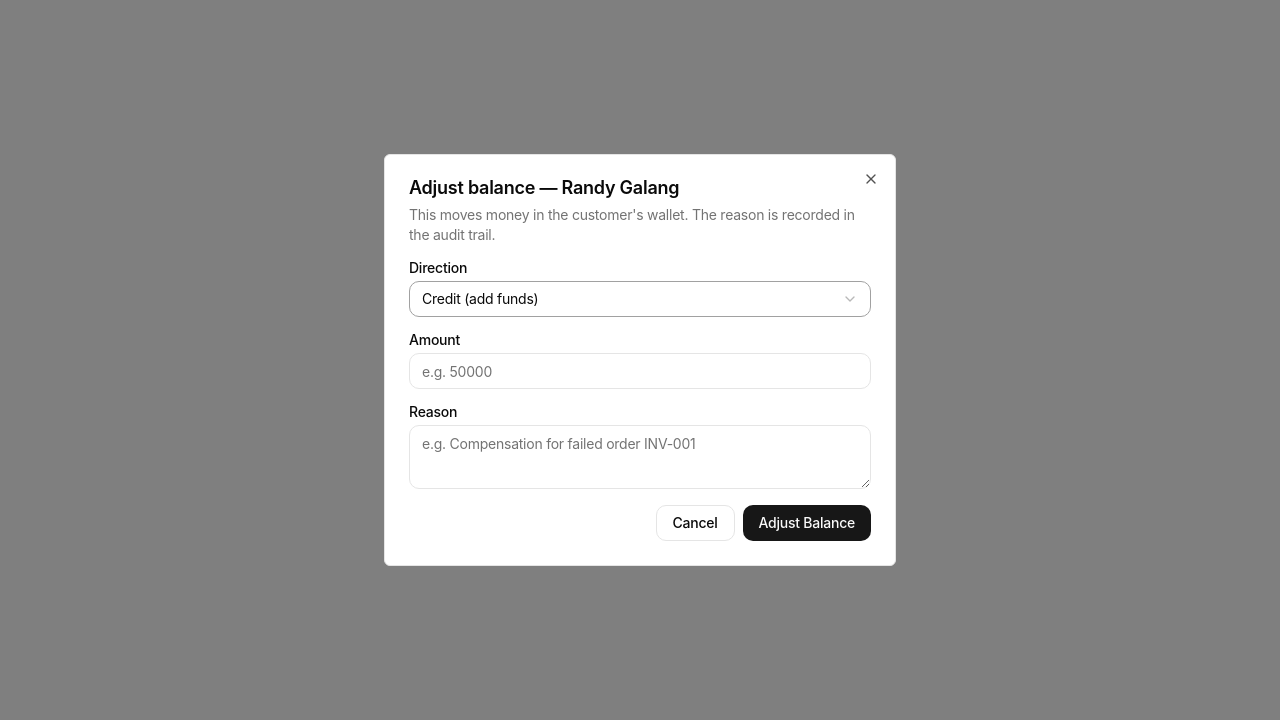
Test: AdjustBalanceDialog › blocks submit when the amount is not positive
Type "0" into the number field labelled "Amount" at (640, 371), box [409, 353, 871, 389]
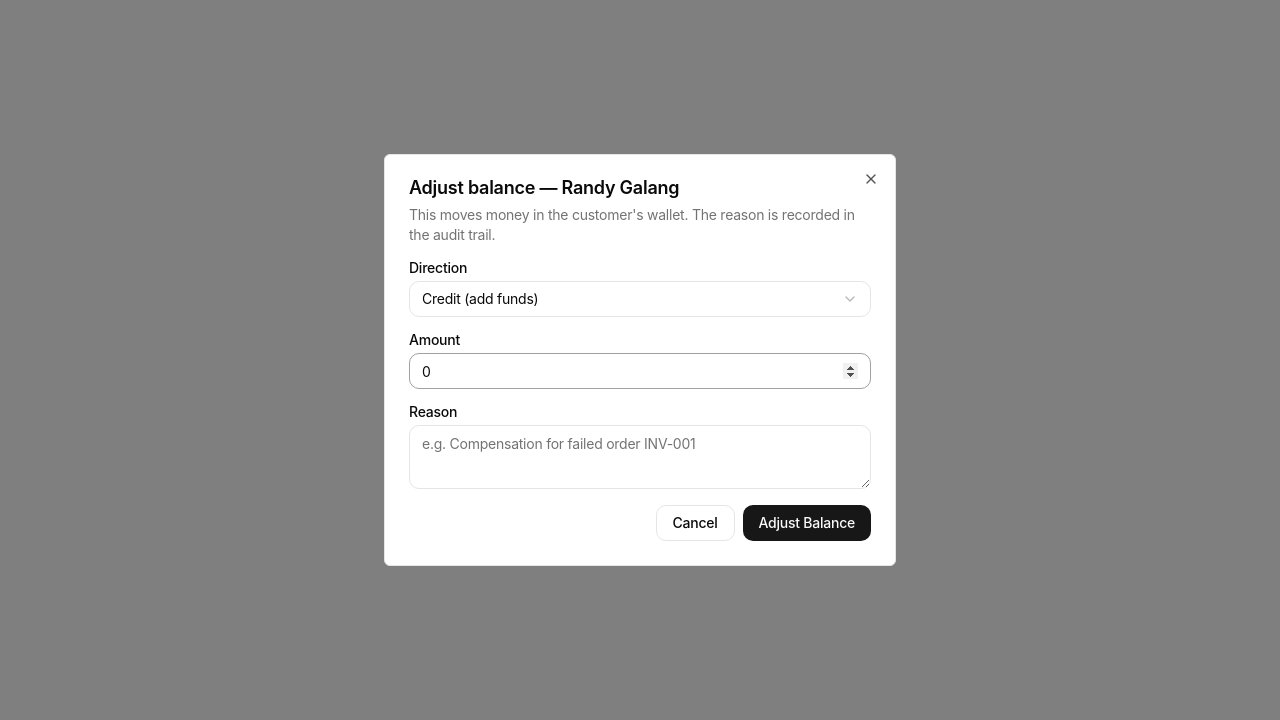
Type "test" into the text box labelled "Reason" at (640, 457), box [409, 425, 871, 489]
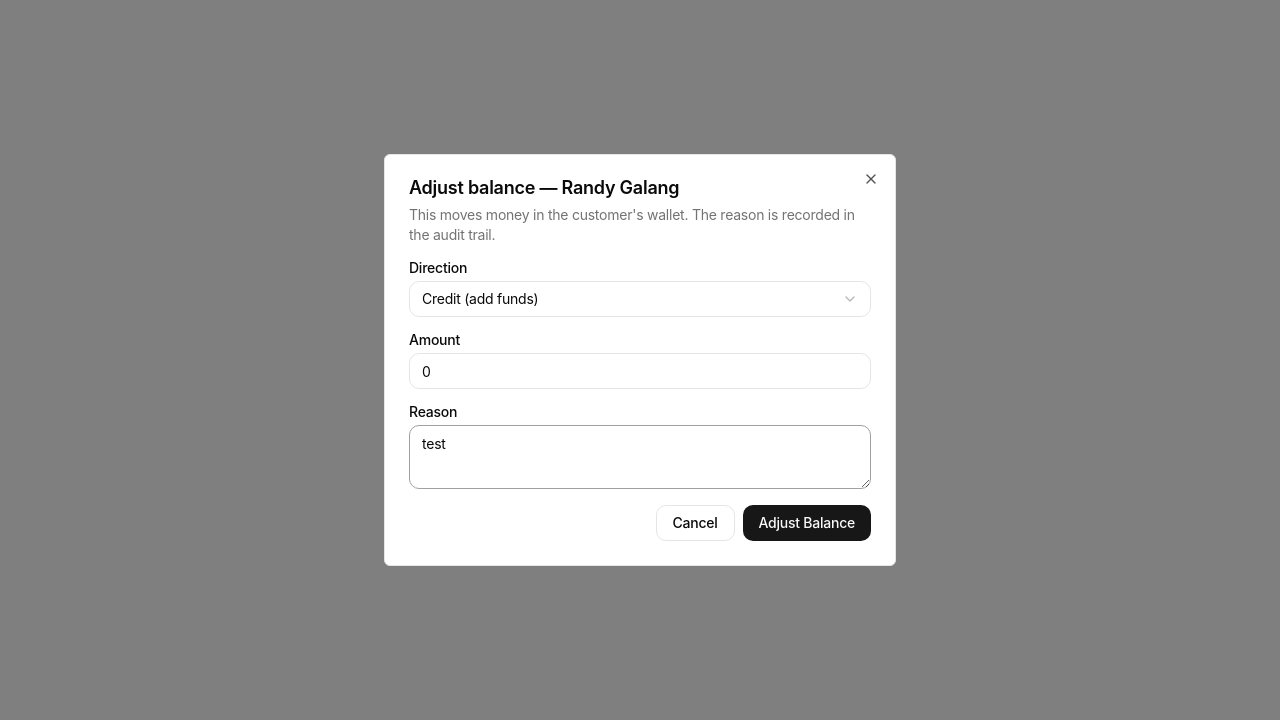
Click the button "Adjust Balance" at (807, 523), box [742, 505, 871, 541]
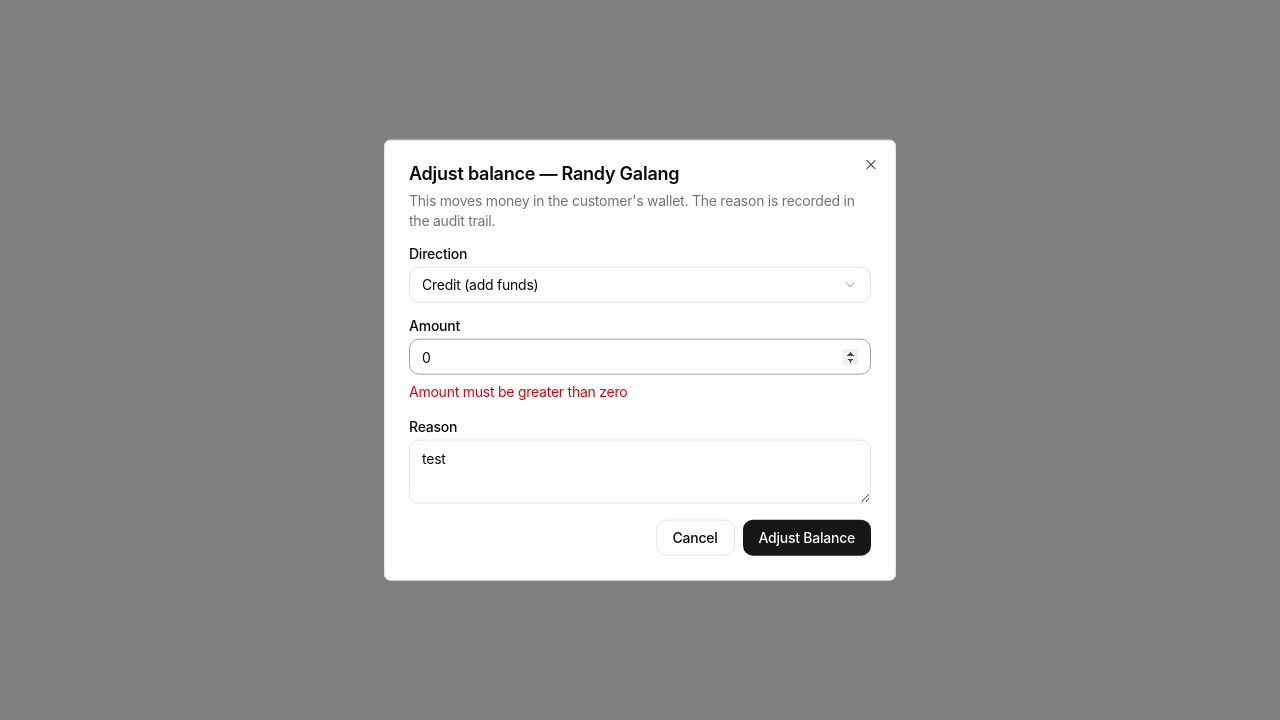
Expected: the text "Amount must be greater than zero" is shown, [409, 383, 628, 400]
